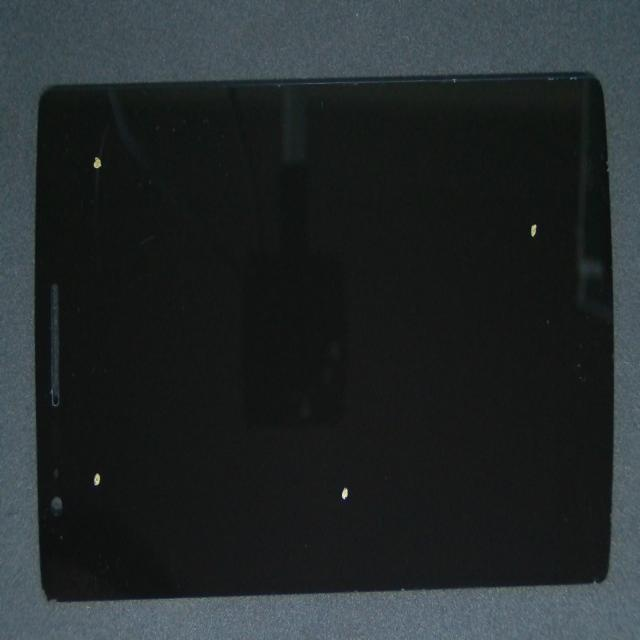stain: (187, 222, 499, 640), (224, 148, 640, 377), (56, 202, 137, 640), (69, 49, 151, 200)
